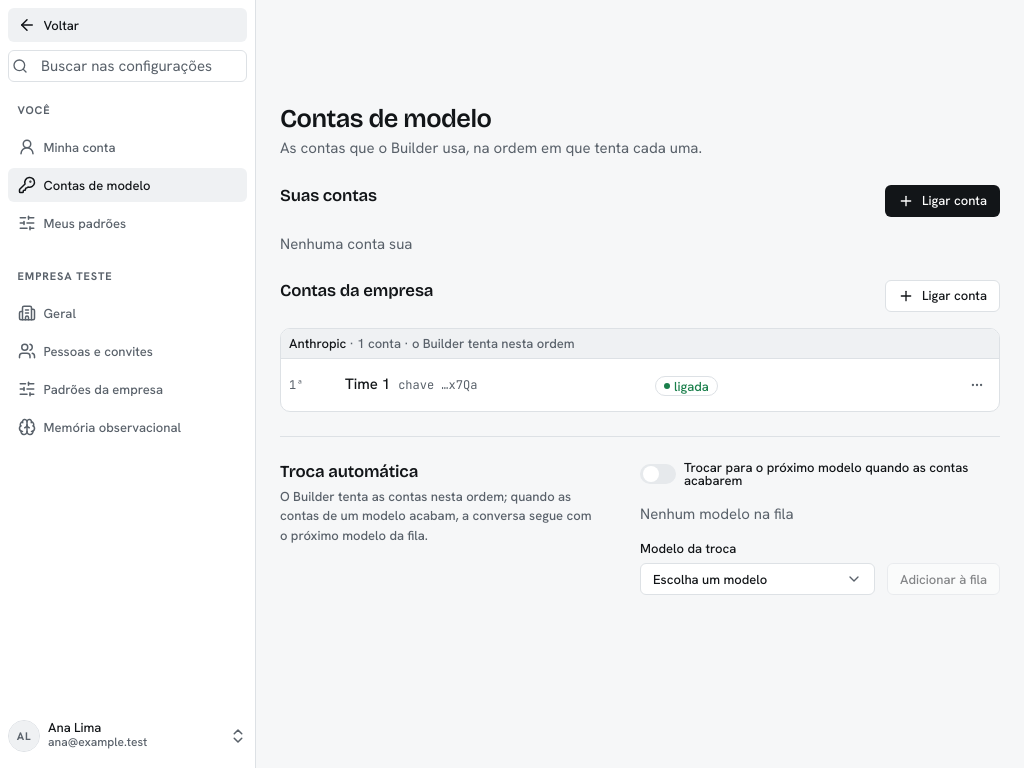
as ações no menu: Renomear, Pausar, Dar a pessoas… e, separado, Remover…
(page scrolled)
Click the button named "Mais ações para Time 1": point(977, 385) [963, 371, 991, 399]
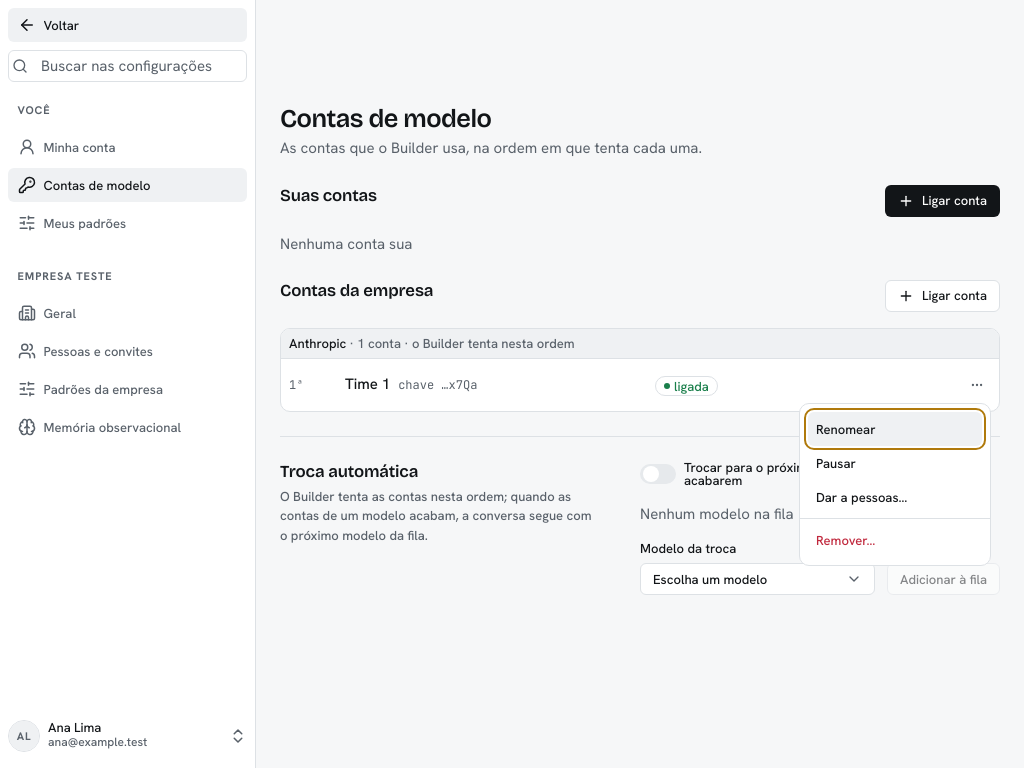
Check: the menu items read "Renomear", "Pausar", "Dar a pessoas…", "Remover…", in this order, box [808, 412, 982, 446]; [816, 454, 856, 472]; [816, 488, 907, 506]; [816, 532, 875, 548]
